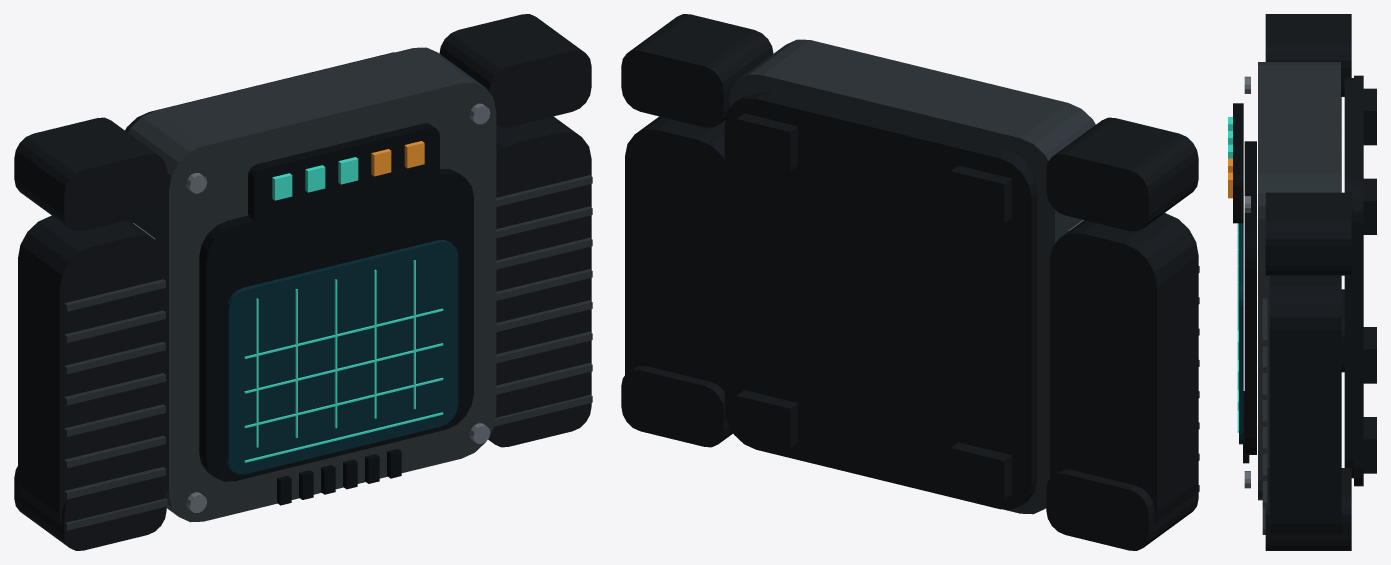
File: SM_AH_ContainmentScanner.obj
3 renders of one model, left to right at view 1: azimuth 30°, elevation 25°; view 2: azimuth 150°, elevation 25°; view 3: azimuth 270°, elevation 25°, orthographic. The views are drawn at different scales.
Visible parts, largest first — view 1: Chassis_Main, Display_Glass, Handle_L, Face_Bezel, Handle_R, Bumper_L_+0.10, Bumper_R_+0.10, Readout_Trim, Bumper_L_-0.10, Bumper_R_-0.10, HandleRib_L_02, HandleRib_L_04 (+14 smaller); view 2: Base_ShockSeal, Handle_L, Chassis_Main, Handle_R, Bumper_L_+0.10, Bumper_R_+0.10, Bumper_L_-0.10, Bumper_R_-0.10, CornerFoot_-1_1, CornerFoot_1_1, CornerFoot_-1_-1, CornerFoot_1_-1 (+1 smaller); view 3: Handle_R, Chassis_Main, Bumper_R_+0.10, Bumper_L_+0.10, Face_Bezel, Base_ShockSeal, Chassis_RearGasket, Bumper_R_-0.10, Readout_Trim, Display_Glass, CornerFoot_-1_1, CornerFoot_-1_-1 (+4 smaller).
Boxes of the visible parts, x1,y1,x2,y2 form: Chassis_Main: (128,47,496,522); Display_Glass: (225,240,458,474); Handle_L: (18,215,161,525); Face_Bezel: (199,168,473,481); Handle_R: (496,116,591,385); Bumper_L_+0.10: (14,117,166,231); Bumper_R_+0.10: (439,14,591,127); Readout_Trim: (248,123,439,224); Bumper_L_-0.10: (14,466,166,550); Bumper_R_-0.10: (488,373,591,447); HandleRib_L_02: (64,435,165,468); HandleRib_L_04: (64,373,165,405); Base_ShockSeal: (724,94,1036,509); Handle_L: (1050,213,1198,523); Chassis_Main: (730,39,1095,514); Handle_R: (625,116,725,391); Bumper_L_+0.10: (1046,117,1198,231); Bumper_R_+0.10: (621,14,773,127); Bumper_L_-0.10: (1046,469,1198,550); Bumper_R_-0.10: (621,365,732,447); CornerFoot_-1_1: (950,165,1011,223); CornerFoot_1_1: (736,113,797,171); CornerFoot_-1_-1: (950,442,1011,500); CornerFoot_1_-1: (736,390,797,447); Handle_R: (1269,275,1341,533); Chassis_Main: (1258,62,1340,500); Bumper_R_+0.10: (1265,192,1351,275); Bumper_L_+0.10: (1265,14,1351,96); Face_Bezel: (1244,141,1256,454); Base_ShockSeal: (1354,75,1363,486); Chassis_RearGasket: (1344,78,1357,478); Bumper_R_-0.10: (1265,468,1351,550); Readout_Trim: (1233,103,1243,223); Display_Glass: (1239,223,1243,444); CornerFoot_-1_1: (1363,88,1376,145); CornerFoot_-1_-1: (1363,327,1376,383).
Size of the model in its own units: 0.338 by 0.231 by 0.095.
